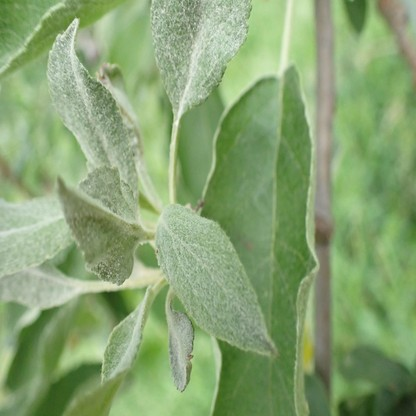powdery_mildew: (157, 203, 277, 358), (46, 14, 138, 195), (150, 2, 255, 113), (58, 166, 143, 285), (0, 196, 72, 277), (93, 290, 149, 389), (0, 265, 85, 310), (167, 304, 194, 393)
